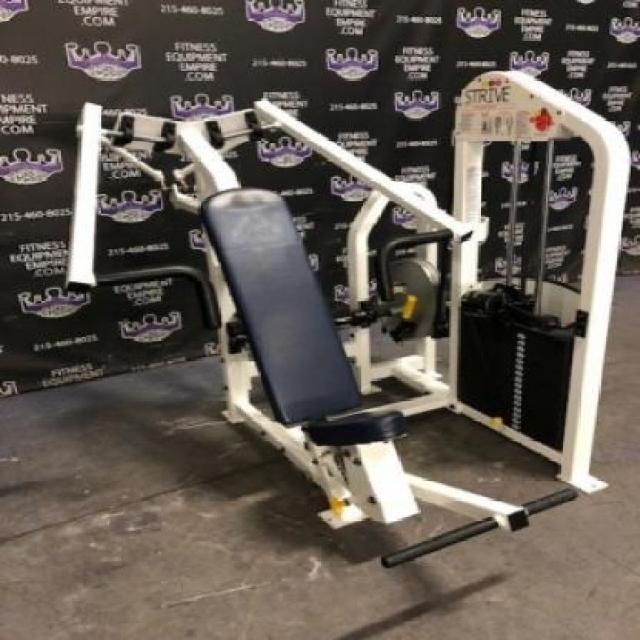Chest Press machine: (63, 57, 640, 574)
